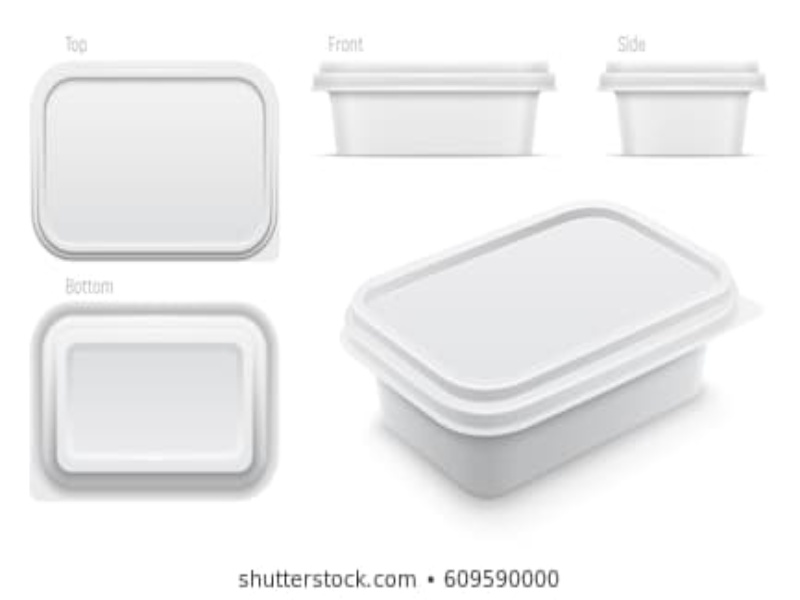plastic-container: (343, 200, 753, 498), (29, 295, 287, 495), (303, 57, 560, 160), (595, 55, 773, 159)
plastic-tray: (27, 52, 285, 267)
